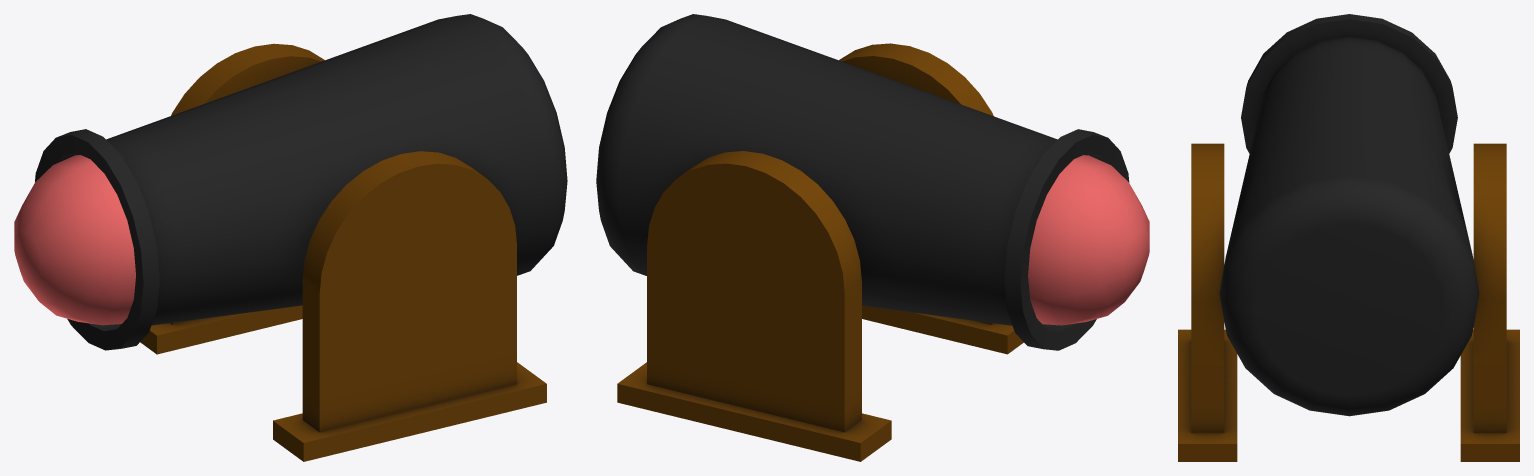
Rendered from Cannon.fbx.
3 renders of one model, left to right at view 1: azimuth 30°, elevation 25°; view 2: azimuth 150°, elevation 25°; view 3: azimuth 270°, elevation 25°, orthographic. The views are drawn at different scales.
Visible parts, largest first — view 1: Cannon, CannonBall; view 2: Cannon, CannonBall; view 3: Cannon.
Boxes of the visible parts, x1=… form: Cannon: x1=35, y1=14, x2=567, y2=461; CannonBall: x1=14, y1=155, x2=135, y2=325; Cannon: x1=596, y1=14, x2=1129, y2=461; CannonBall: x1=1028, y1=155, x2=1149, y2=325; Cannon: x1=1178, y1=14, x2=1519, y2=461.
Size of the model in its own units: 123 by 73.84 by 77.32.
